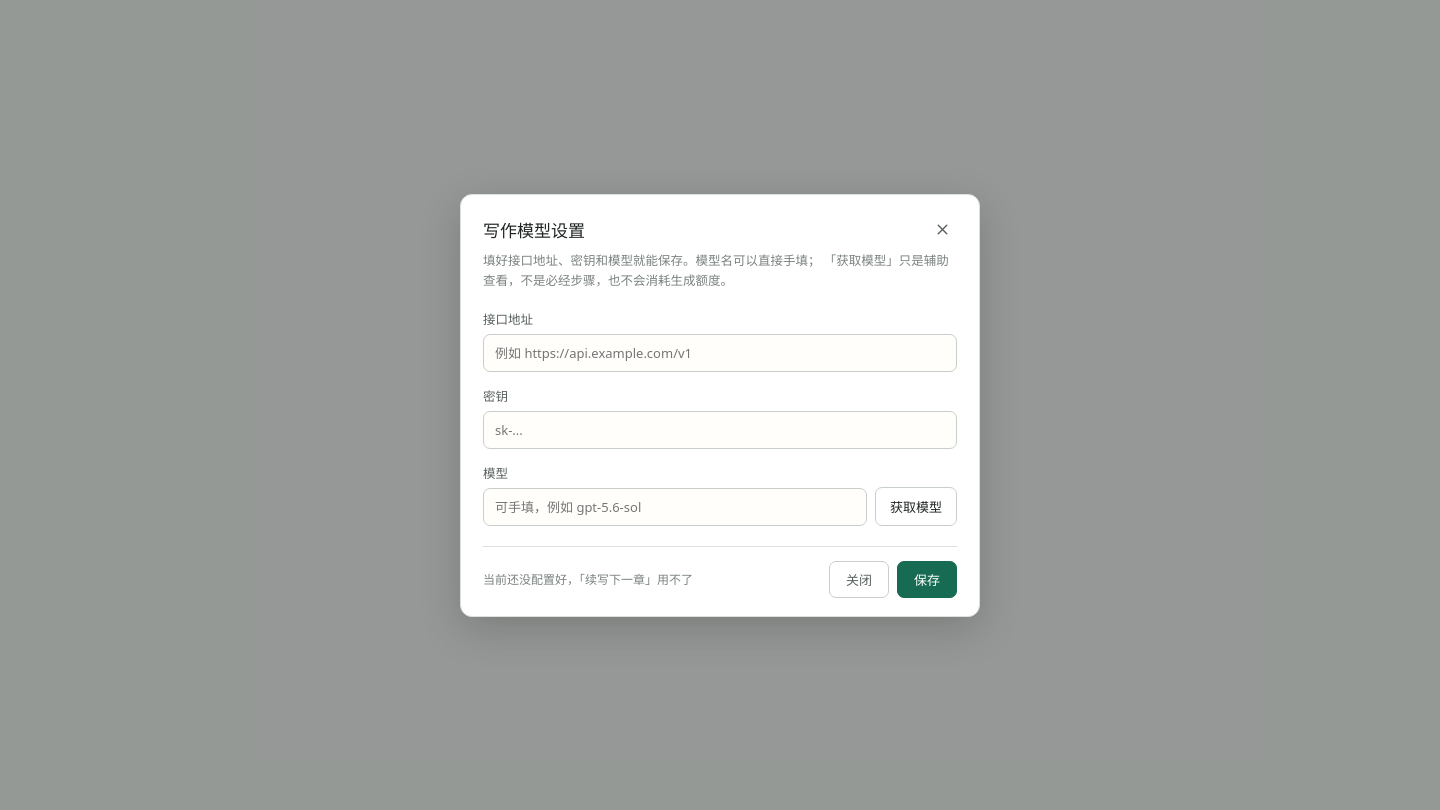
Test: SettingsDialog › keeps the author-entered model when discovery returns different suggestions
In the field labelled "接口地址": (720, 352) top-left (483, 334), bottom-right (957, 372), type "https://provider.example/v1"
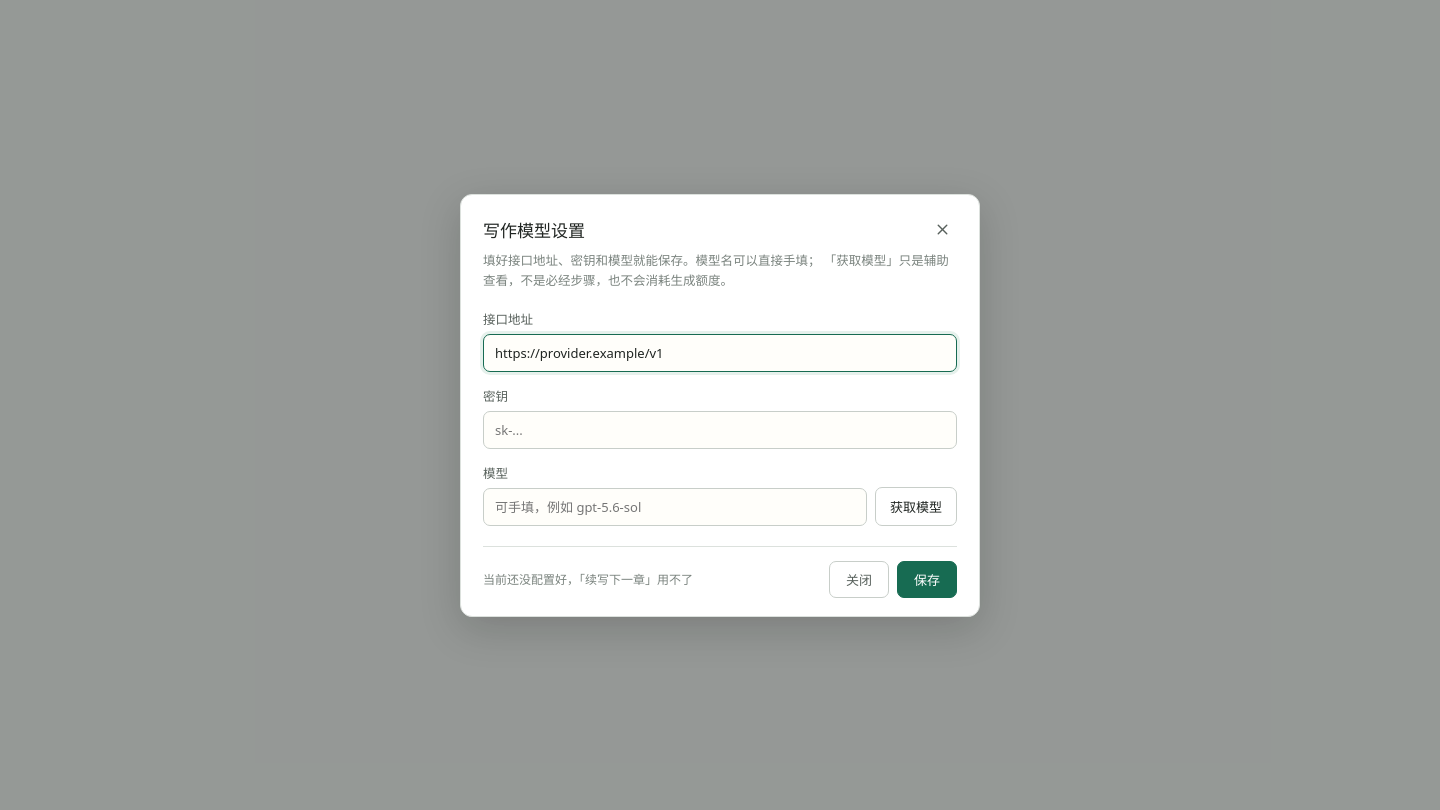
In the field labelled "模型": (675, 506) top-left (483, 488), bottom-right (867, 526), type "author-model"
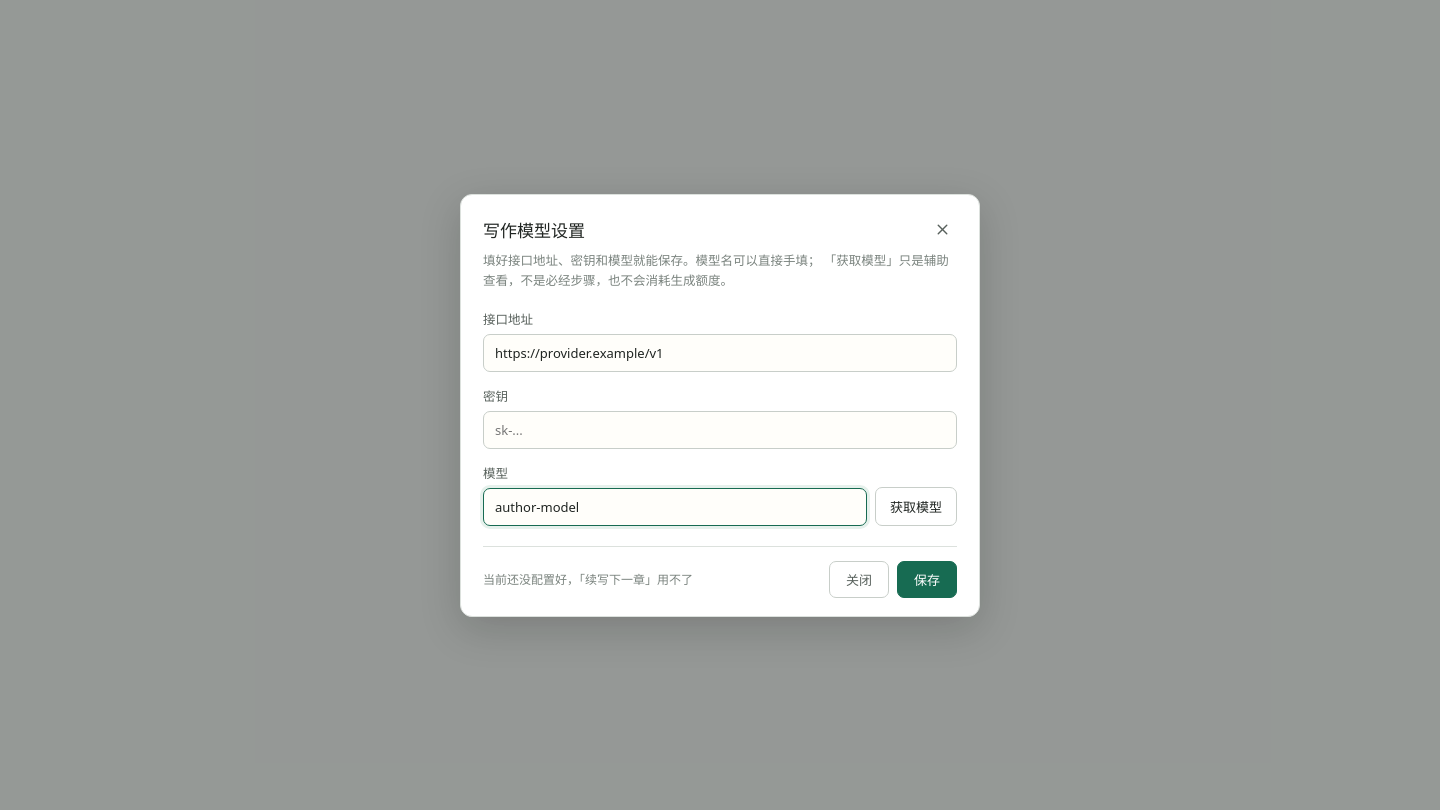
Click the button "获取模型": (916, 506) top-left (875, 486), bottom-right (957, 526)
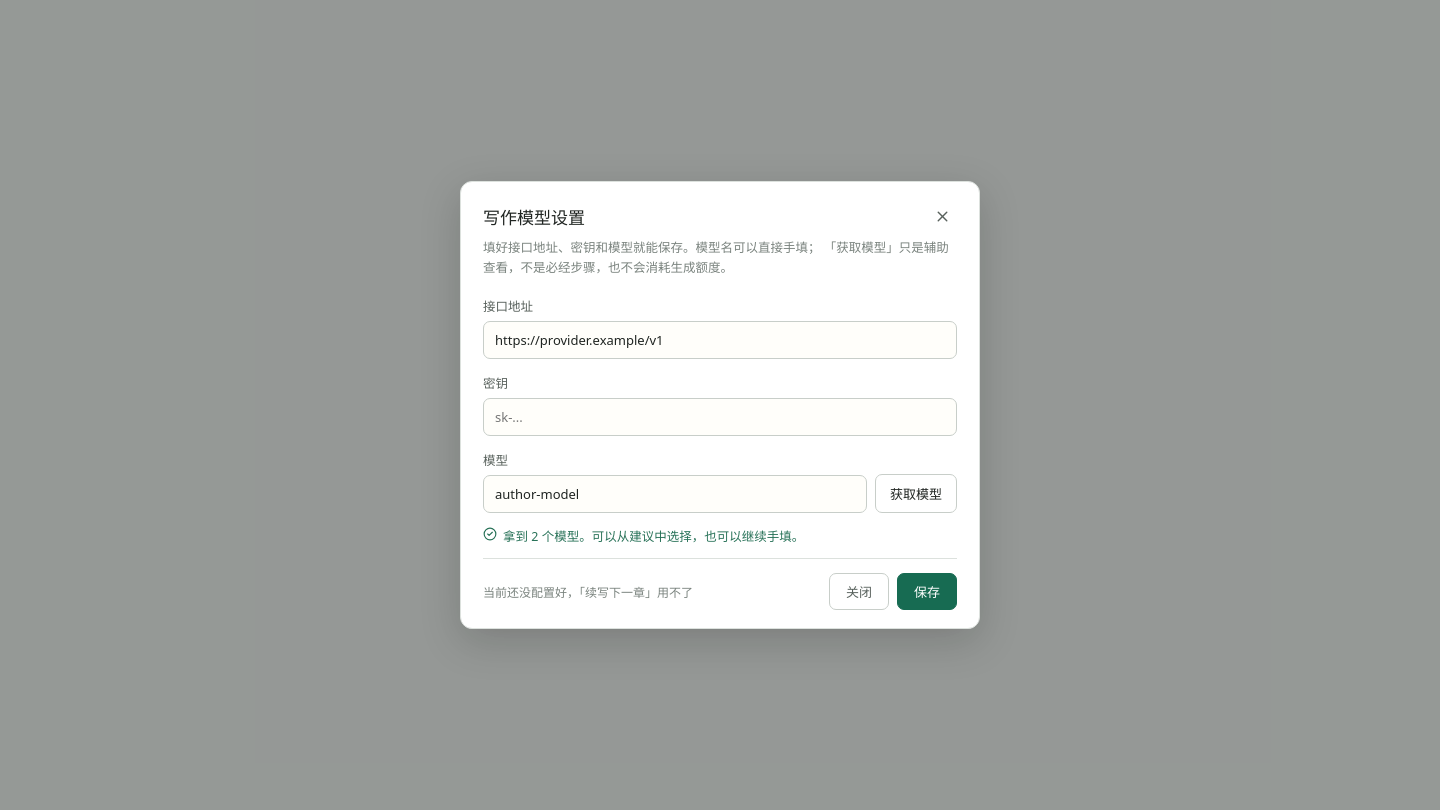
expect the text "拿到 2 个模型。可以从建议中选择，也可以继续手填。" is shown: met, box top-left (483, 527), bottom-right (804, 545)
